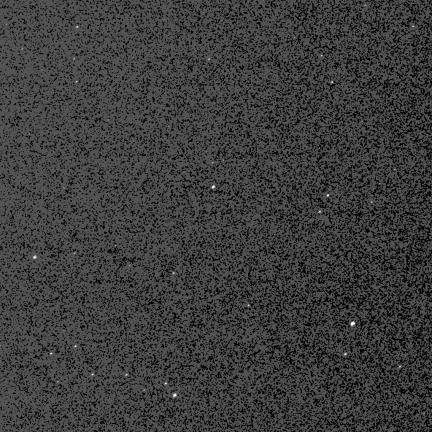blob: (33, 256, 38, 260), (351, 322, 355, 326), (212, 186, 216, 189), (344, 353, 348, 356), (76, 26, 79, 29), (173, 272, 176, 275), (126, 374, 129, 377), (165, 383, 168, 386), (327, 195, 330, 198), (173, 394, 176, 397), (331, 81, 334, 84), (50, 353, 53, 355), (75, 345, 77, 348), (92, 374, 95, 376)
